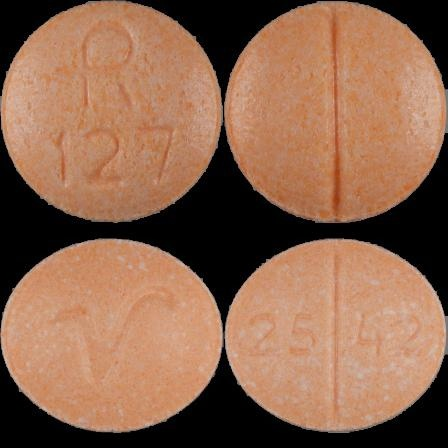50436-3523: (0, 0, 224, 224)
